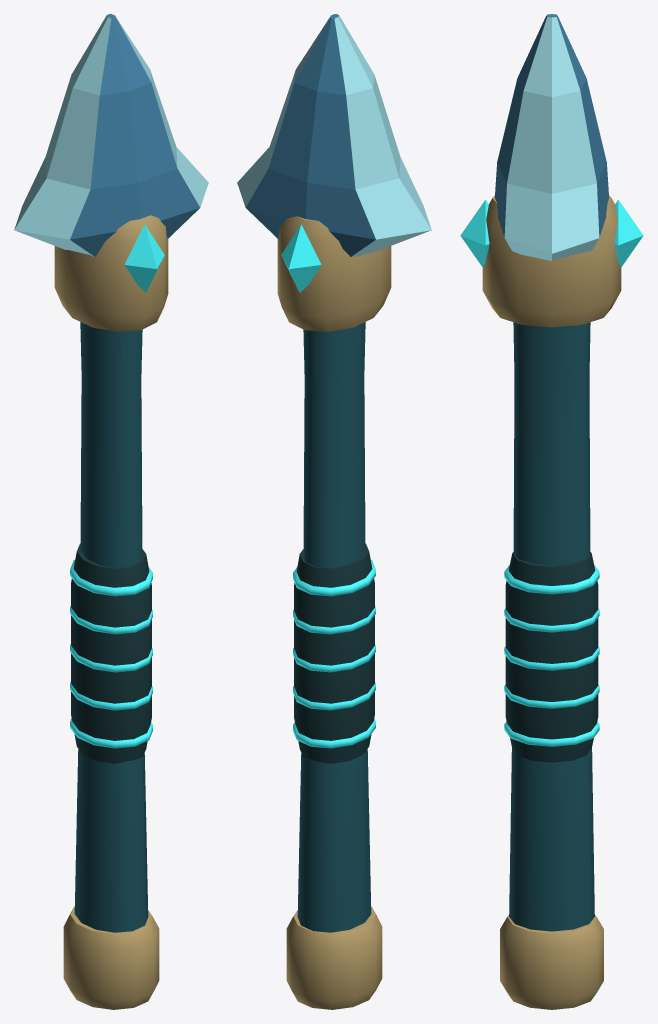
The model's file is spear-rare.glb.
3 views of the same model, side by side, from view 1: azimuth 30°, elevation 25°; view 2: azimuth 150°, elevation 25°; view 3: azimuth 270°, elevation 25° (orthographic).
Parts seen in each view (by area): view 1: Body; view 2: Body; view 3: Body.
Part boxes in pixels (<box>): Body: <box>14,14,208,1009</box>; Body: <box>237,14,431,1009</box>; Body: <box>460,14,643,1009</box>.
Bounding box in the file's own units: 0.1463 × 0.7 × 0.119.
